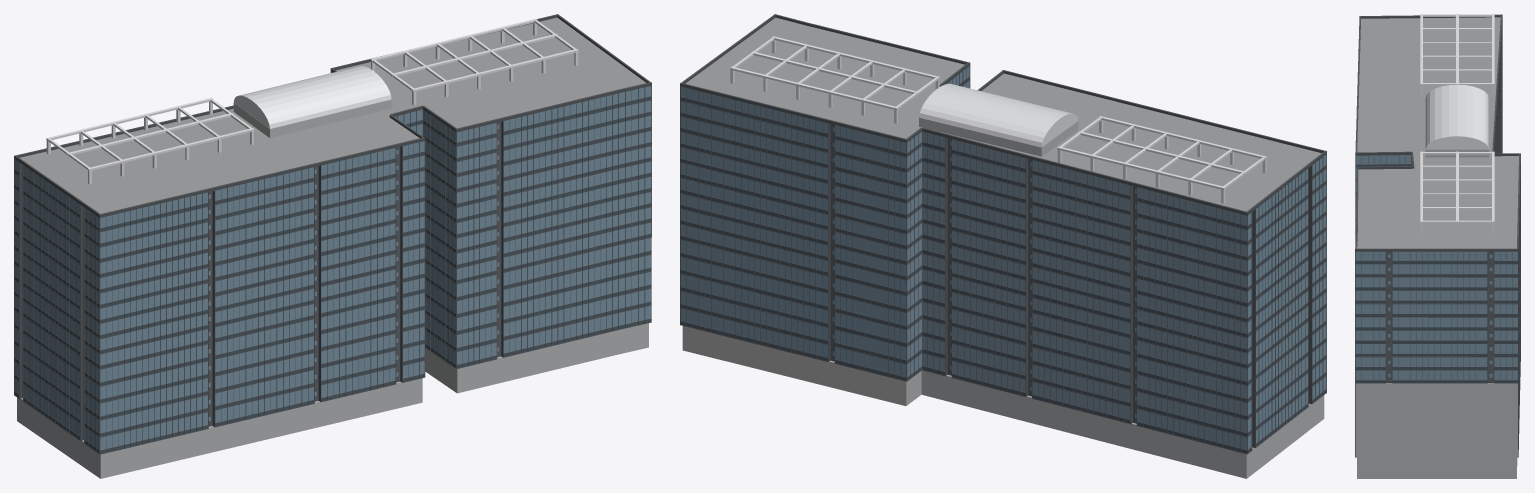
3 renders of one model, left to right at view 1: azimuth 30°, elevation 25°; view 2: azimuth 150°, elevation 25°; view 3: azimuth 270°, elevation 25°, orthographic. The views are drawn at different scales.
Visible parts, largest first — view 1: eng301__glass, eng301__frame, eng301__tintglass, eng301__roof, eng301__core, eng301__steel, eng301__slot; view 2: eng301__glass, eng301__frame, eng301__tintglass, eng301__roof, eng301__core, eng301__steel, eng301__slot; view 3: eng301__roof, eng301__glass, eng301__core, eng301__frame, eng301__steel, eng301__tintglass, eng301__slot.
Part boxes in pixels (left/top/right/bottom): eng301__glass: left=14, top=72, right=651, bottom=450; eng301__frame: left=14, top=14, right=651, bottom=454; eng301__tintglass: left=14, top=96, right=651, bottom=453; eng301__roof: left=19, top=17, right=645, bottom=213; eng301__core: left=17, top=99, right=648, bottom=478; eng301__steel: left=46, top=18, right=578, bottom=184; eng301__slot: left=22, top=122, right=501, bottom=439; eng301__glass: left=680, top=66, right=1326, bottom=449; eng301__frame: left=680, top=14, right=1326, bottom=454; eng301__tintglass: left=680, top=77, right=1326, bottom=453; eng301__roof: left=685, top=17, right=1321, bottom=211; eng301__core: left=682, top=117, right=1324, bottom=478; eng301__steel: left=730, top=36, right=1266, bottom=203; eng301__slot: left=830, top=124, right=1136, bottom=423; eng301__roof: left=1357, top=17, right=1518, bottom=248; eng301__glass: left=1355, top=155, right=1517, bottom=379; eng301__core: left=1355, top=149, right=1517, bottom=478; eng301__frame: left=1355, top=14, right=1520, bottom=457; eng301__steel: left=1420, top=14, right=1494, bottom=234; eng301__tintglass: left=1355, top=164, right=1517, bottom=383; eng301__slot: left=1386, top=251, right=1493, bottom=382.
Bounding box in the file's own units: 137 × 67.84 × 40.76.
